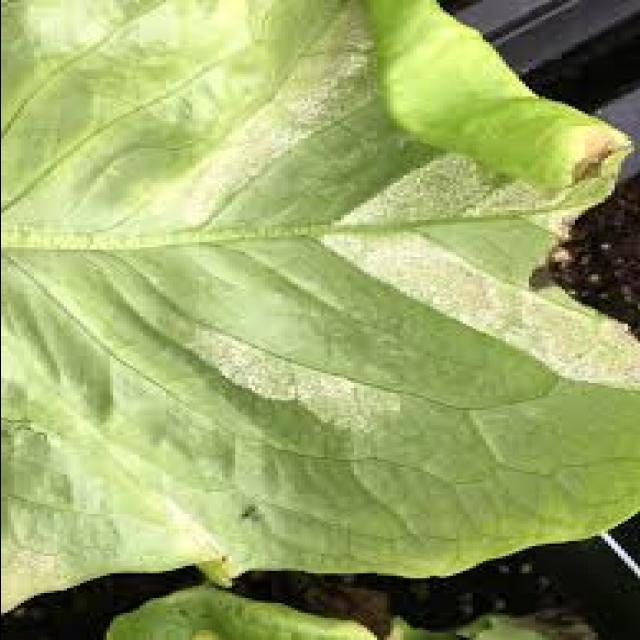Bad: (181, 128, 521, 439)
